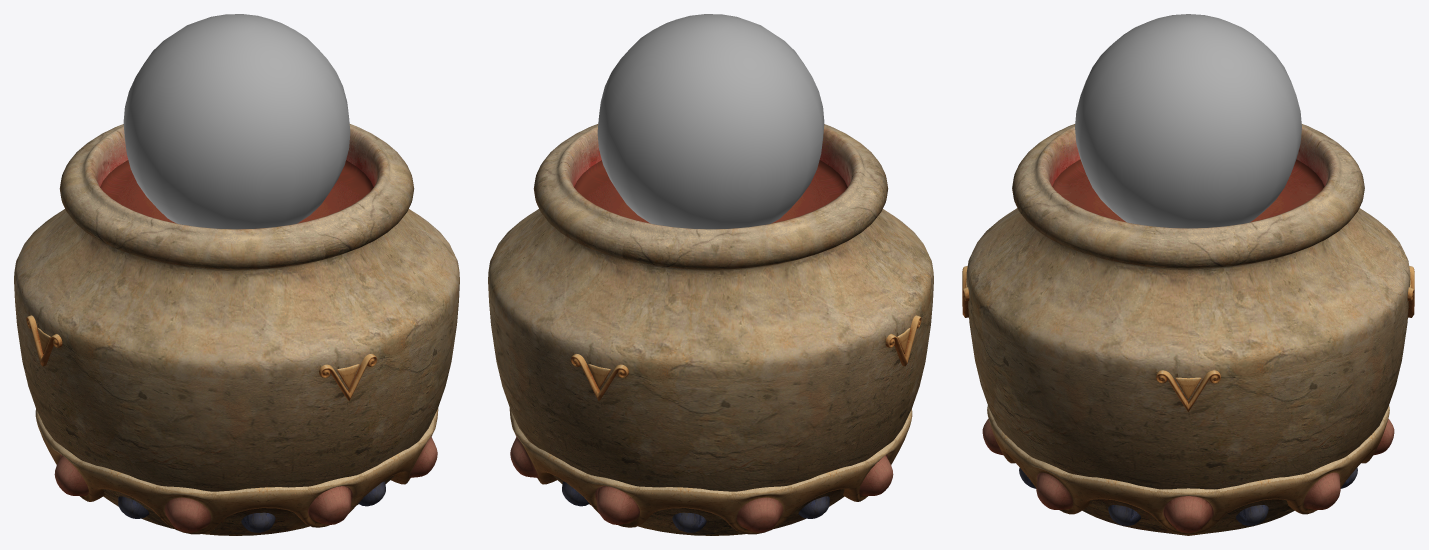
The model's file is pot_Ef2.fbx.
The picture shows the model from 3 angles, left to right: view 1: azimuth 30°, elevation 25°; view 2: azimuth 150°, elevation 25°; view 3: azimuth 270°, elevation 25°; orthographic projection.
Parts seen in each view (by area): view 1: pot_Ef, :pSphere1; view 2: pot_Ef, :pSphere1; view 3: pot_Ef, :pSphere1.
Boxes of the visible parts, bbox=[...] form: pot_Ef: bbox=[14, 124, 459, 535]; :pSphere1: bbox=[123, 14, 350, 229]; pot_Ef: bbox=[488, 124, 933, 535]; :pSphere1: bbox=[597, 14, 824, 229]; pot_Ef: bbox=[962, 124, 1414, 535]; :pSphere1: bbox=[1075, 14, 1301, 228].
Bounding box in the file's own units: 199 × 222 × 199.
2 materials, 1 textured.
